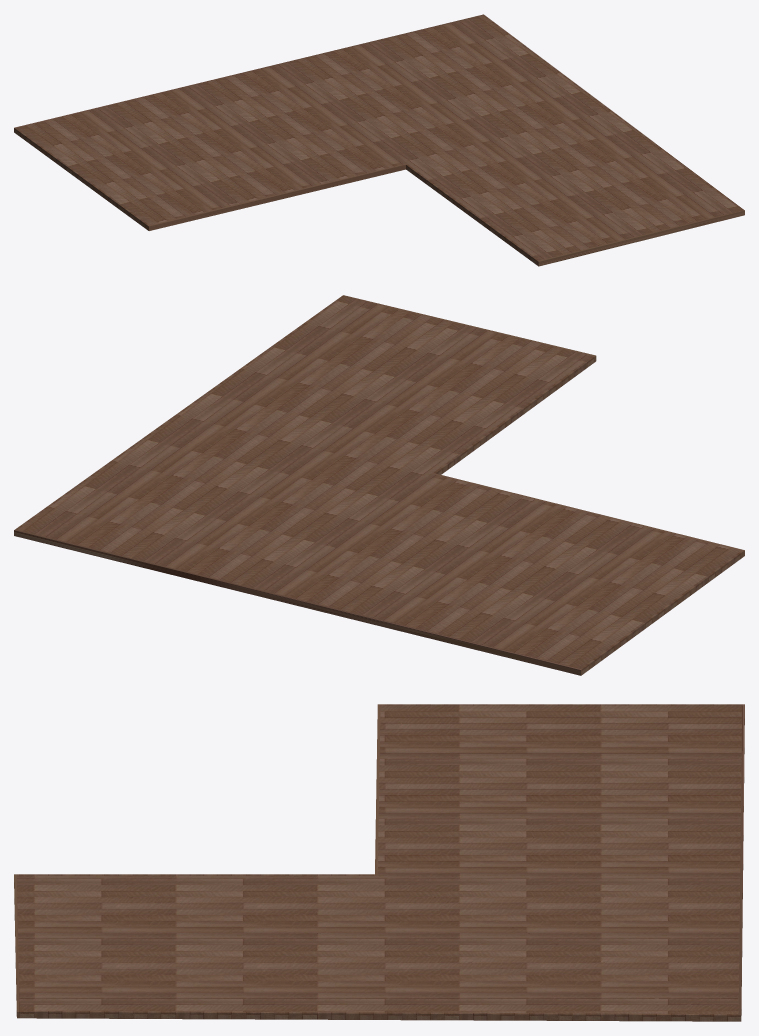
3 renders of one model, top to bottom at view 1: azimuth 30°, elevation 25°; view 2: azimuth 150°, elevation 25°; view 3: azimuth 270°, elevation 25°, orthographic. The views are drawn at different scales.
Parts seen in each view (by area): view 1: Floor#0_1; view 2: Floor#0_1; view 3: Floor#0_1.
Boxes of the visible parts, x1=… form: Floor#0_1: x1=14, y1=14, x2=744, y2=266; Floor#0_1: x1=14, y1=295, x2=744, y2=675; Floor#0_1: x1=14, y1=704, x2=744, y2=1021.
Bounding box in the file's own units: 5.2 × 0.05 × 5.16.
1 material, 1 textured.
